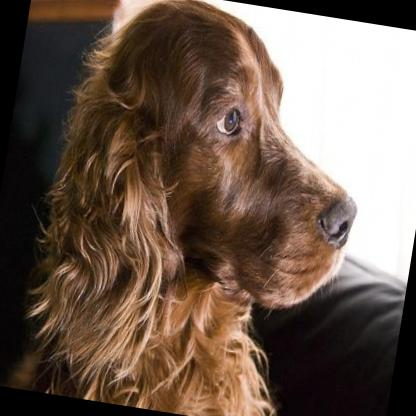Irish_setter: (3, 0, 386, 416)
